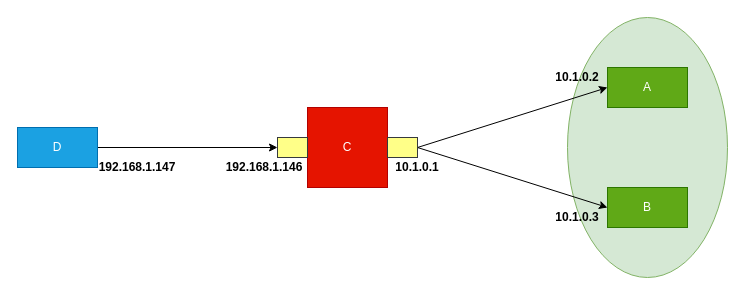
This 745x295 diagram has some shape labels left out. The centre of each missing label's shape, as x and y in pixels:
eth0: point (402, 147)
eth1: point (292, 147)
